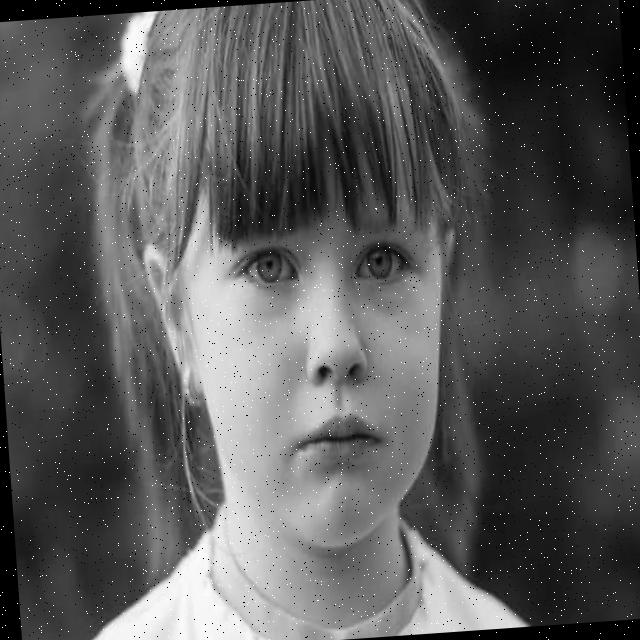Sadness: (202, 173, 449, 555)
